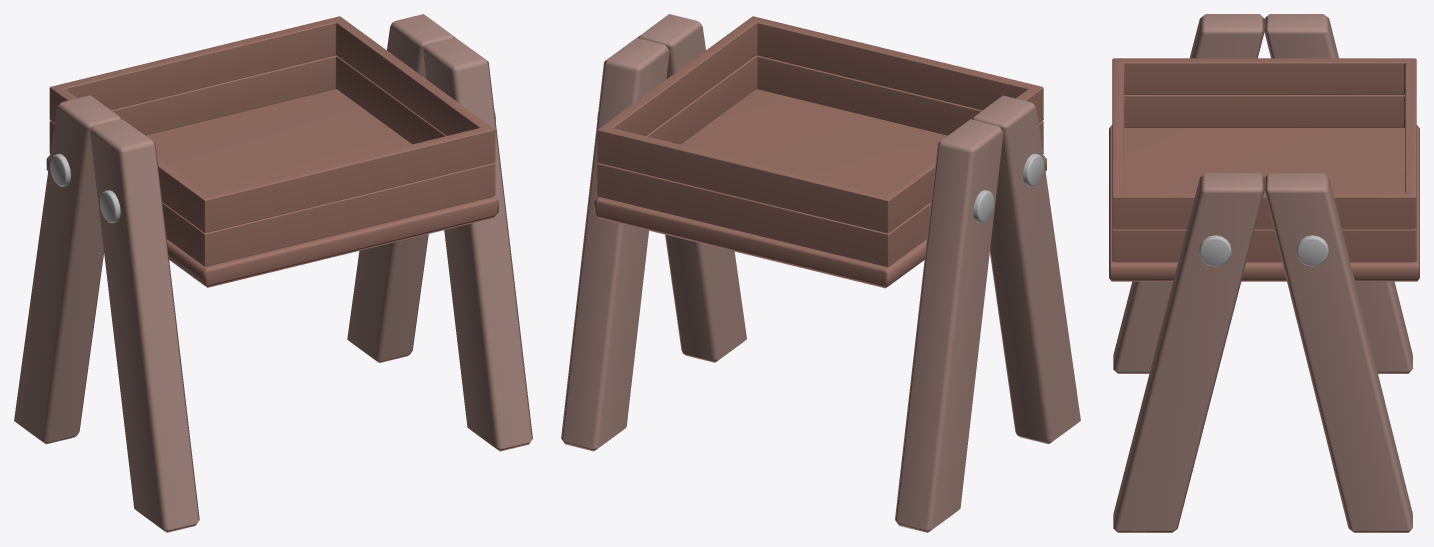
File: Farm_17_Rack_2.glb
3 renders of one model, left to right at view 1: azimuth 30°, elevation 25°; view 2: azimuth 150°, elevation 25°; view 3: azimuth 270°, elevation 25°, orthographic. The views are drawn at different scales.
Visible parts, largest first — view 1: Farm_17_Rack_2; view 2: Farm_17_Rack_2; view 3: Farm_17_Rack_2.
Part boxes in pixels (x1=…): Farm_17_Rack_2: x1=14, y1=14, x2=532, y2=532; Farm_17_Rack_2: x1=561, y1=14, x2=1080, y2=532; Farm_17_Rack_2: x1=1109, y1=14, x2=1419, y2=532.
Bounding box in the file's own units: 1.3 × 1.15 × 0.936.
Materials: 1 (1 with a texture image).
